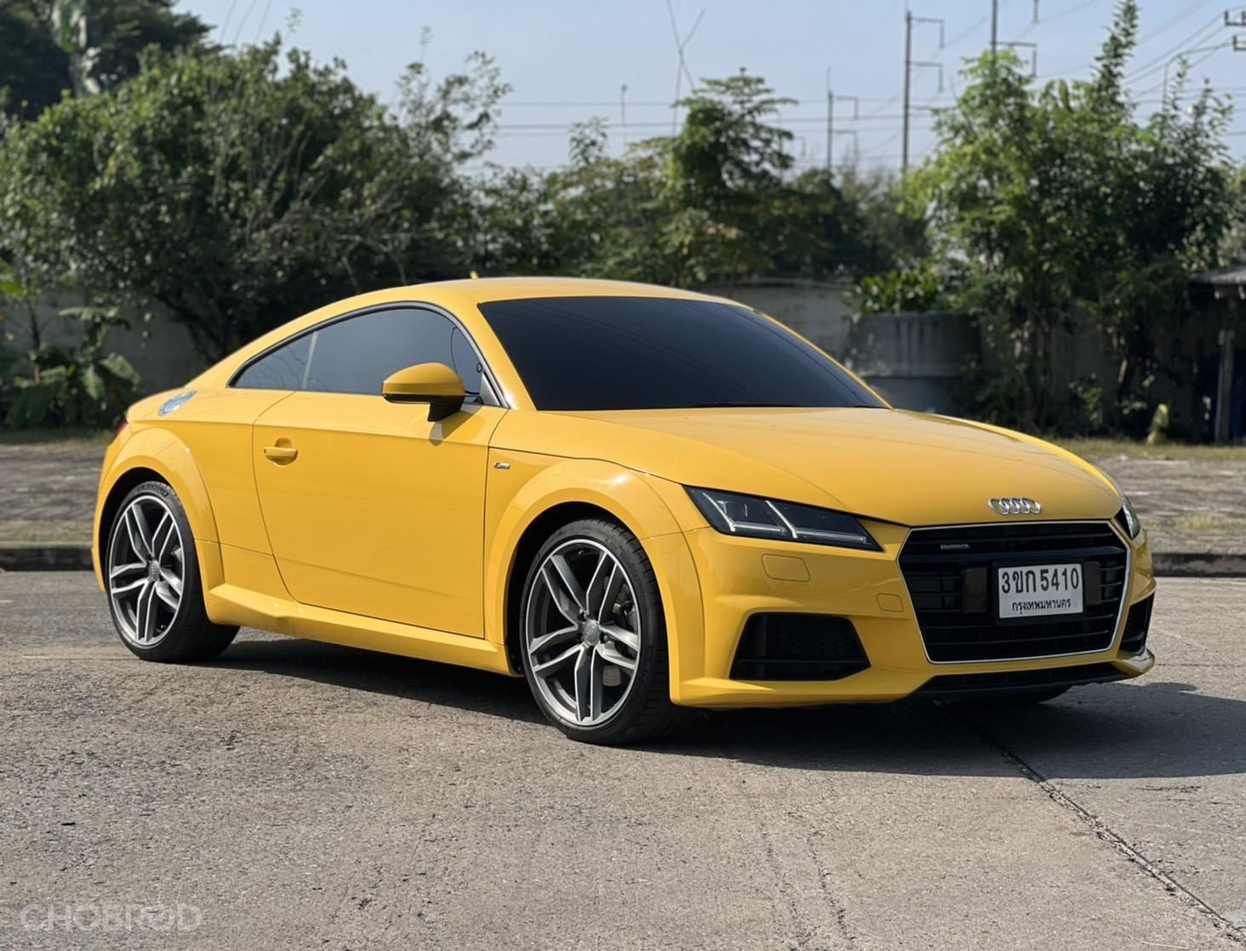license-plate: (990, 559, 1090, 627)
